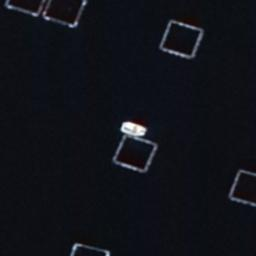square_solid: (153, 14, 208, 63), (107, 129, 161, 176), (36, 1, 94, 32), (225, 162, 256, 208), (64, 238, 119, 256), (1, 1, 52, 19)
